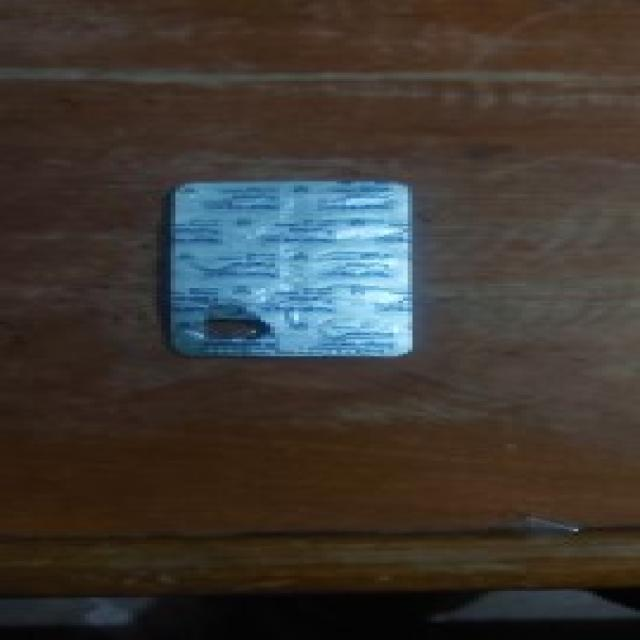Cacat: (172, 180, 412, 352)
Kemasan: (188, 302, 284, 348)
